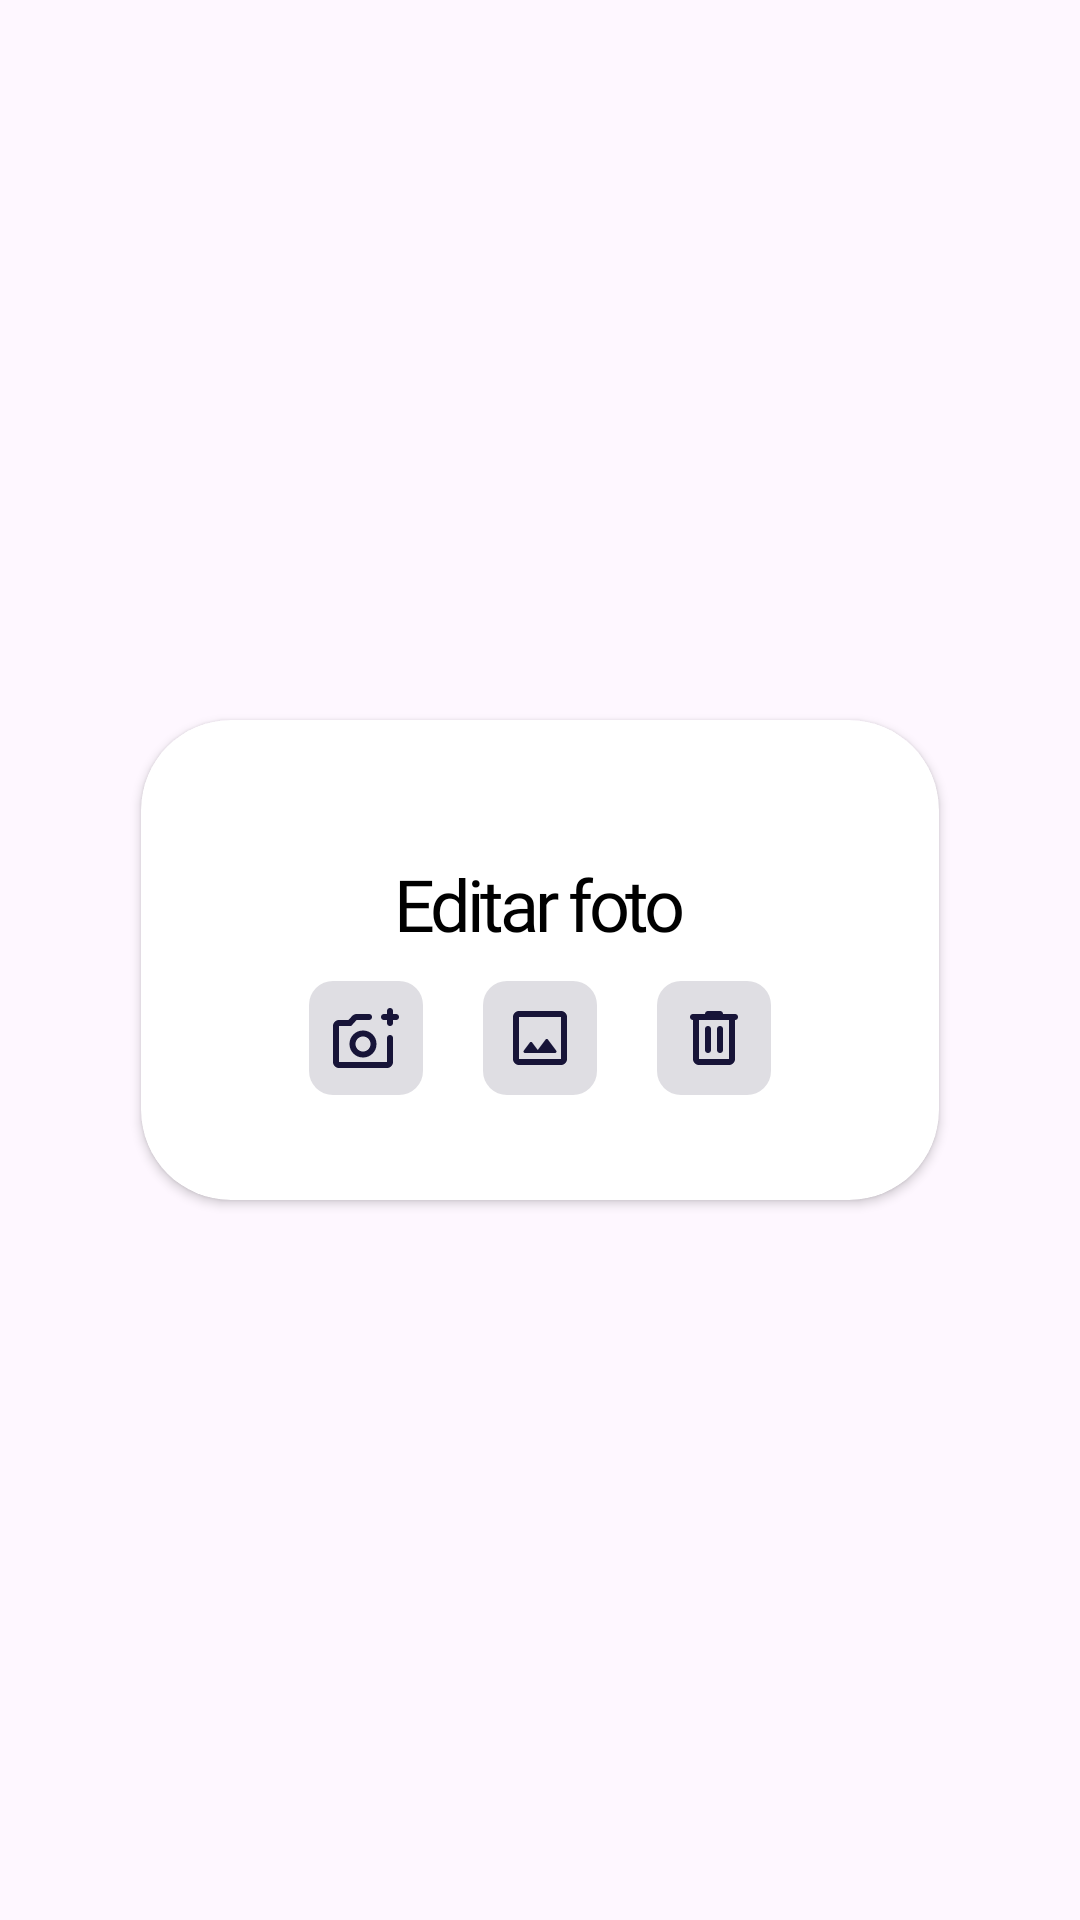

Screen size 1080×1920. Icon name, then its box in pixels as (x1, y1, x2, y2):
delete: (657, 981, 771, 1095)
gallery: (483, 981, 597, 1095)
